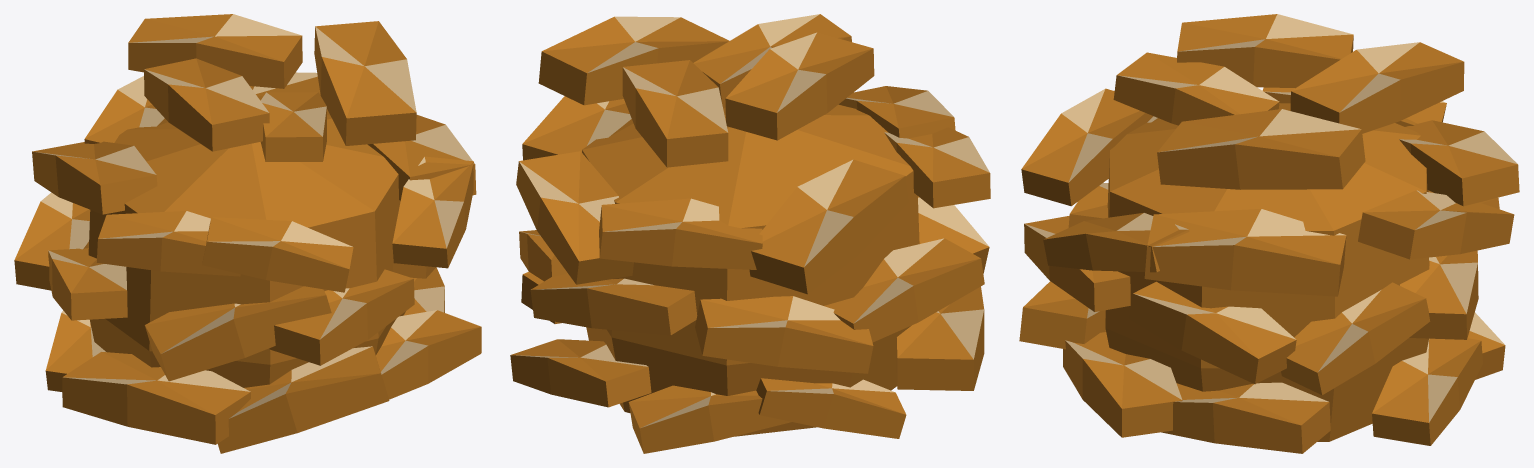
Rendered from SM_Cook_CandyFill_01.fbx.
3 renders of one model, left to right at view 1: azimuth 30°, elevation 25°; view 2: azimuth 150°, elevation 25°; view 3: azimuth 270°, elevation 25°, orthographic. The views are drawn at different scales.
Visible parts, largest first — view 1: SM_Cook_CandyFill_01; view 2: SM_Cook_CandyFill_01; view 3: SM_Cook_CandyFill_01.
Boxes of the visible parts, x1,y1,x2,y2 form: SM_Cook_CandyFill_01: [14, 14, 481, 453]; SM_Cook_CandyFill_01: [510, 14, 990, 453]; SM_Cook_CandyFill_01: [1019, 14, 1519, 453].
Bounding box in the file's own units: 0.149 × 0.1081 × 0.1504.
Materials: 1 (1 with a texture image).
